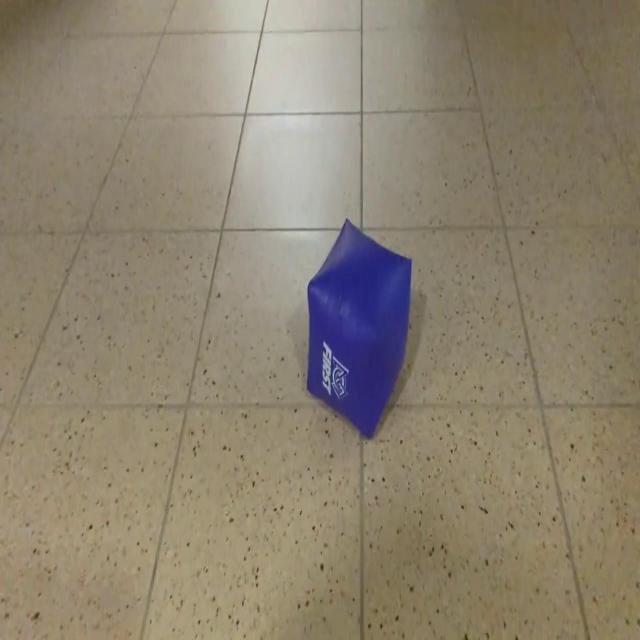frc_cube: (305, 218, 412, 442)
